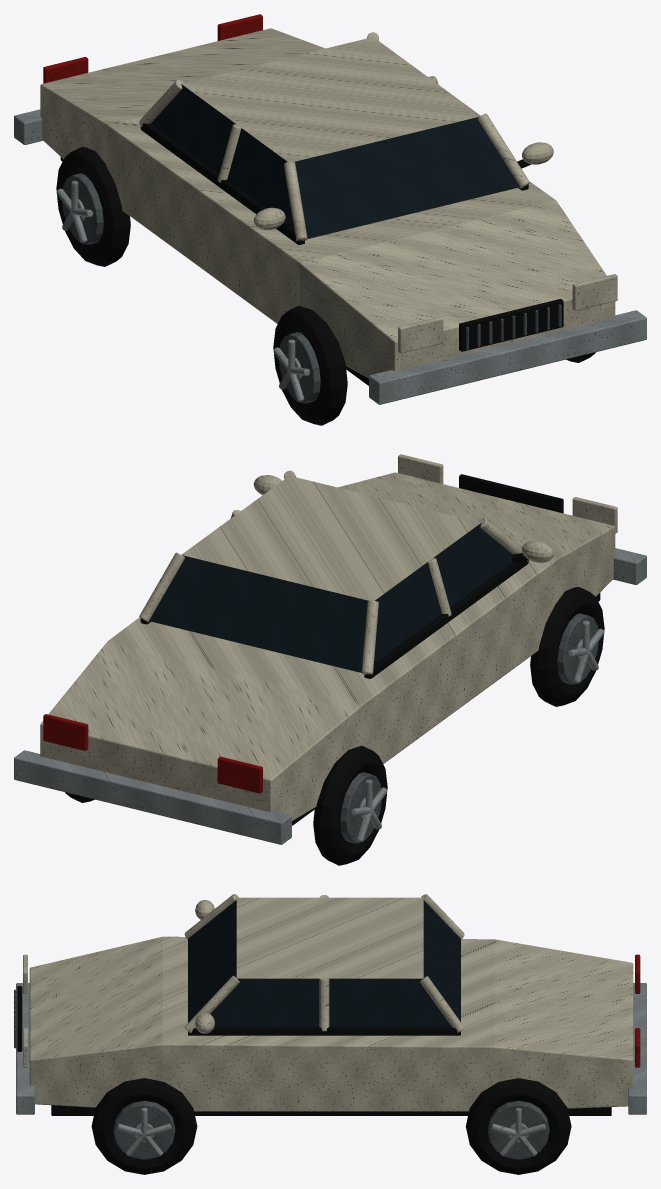
The model's file is PROP-1FC5D951DC33_lod0.glb.
3 views of the same model, one above another, from view 1: azimuth 30°, elevation 25°; view 2: azimuth 150°, elevation 25°; view 3: azimuth 270°, elevation 25° (orthographic). The views are drawn at different scales.
Visible parts, largest first — view 1: shaped_body_panels.005, sloped_cabin_glazing.005, roof_panel.005, bumper.005, tire.005, window_pillars.005, rim.005, radiator_grille.005, lamp_lenses.010, window_belt.005, rim_spokes.005, lamp_lenses.011 (+2 smaller); view 2: shaped_body_panels.005, sloped_cabin_glazing.005, roof_panel.005, bumper.005, tire.005, rim.005, window_pillars.005, lamp_lenses.011, window_belt.005, lamp_lenses.010, rim_spokes.005, radiator_grille.005 (+1 smaller); view 3: shaped_body_panels.005, sloped_cabin_glazing.005, roof_panel.005, tire.005, rim.005, bumper.005, window_pillars.005, window_belt.005, chassis.005, rim_spokes.005, mirror.005, lamp_lenses.011.
Part boxes in pixels (bbox=[...]): shaped_body_panels.005: bbox=[40, 28, 615, 378]; sloped_cabin_glazing.005: bbox=[150, 84, 519, 238]; roof_panel.005: bbox=[181, 37, 480, 161]; bumper.005: bbox=[14, 109, 646, 404]; tire.005: bbox=[56, 147, 595, 425]; window_pillars.005: bbox=[139, 32, 529, 240]; rim.005: bbox=[62, 173, 320, 403]; radiator_grille.005: bbox=[459, 299, 563, 351]; lamp_lenses.010: bbox=[398, 274, 617, 353]; window_belt.005: bbox=[140, 123, 528, 244]; rim_spokes.005: bbox=[56, 180, 309, 401]; lamp_lenses.011: bbox=[43, 14, 262, 83]; shaped_body_panels.005: bbox=[40, 472, 615, 820]; sloped_cabin_glazing.005: bbox=[149, 523, 512, 672]; roof_panel.005: bbox=[181, 475, 481, 600]; bumper.005: bbox=[14, 548, 646, 844]; tire.005: bbox=[65, 587, 604, 865]; rim.005: bbox=[340, 613, 598, 843]; window_pillars.005: bbox=[139, 470, 528, 674]; lamp_lenses.011: bbox=[43, 714, 262, 793]; window_belt.005: bbox=[140, 560, 528, 678]; lamp_lenses.010: bbox=[398, 454, 617, 533]; rim_spokes.005: bbox=[351, 620, 604, 841]; radiator_grille.005: bbox=[459, 474, 563, 513]; shaped_body_panels.005: bbox=[29, 936, 633, 1111]; sloped_cabin_glazing.005: bbox=[188, 899, 460, 1026]; roof_panel.005: bbox=[236, 897, 423, 978]; tire.005: bbox=[91, 1078, 571, 1174]; rim.005: bbox=[113, 1100, 549, 1159]; bumper.005: bbox=[16, 983, 646, 1114]; window_pillars.005: bbox=[184, 894, 464, 1033]; window_belt.005: bbox=[188, 1026, 460, 1035]; chassis.005: bbox=[51, 1105, 611, 1115]; rim_spokes.005: bbox=[117, 1107, 545, 1156]; mirror.005: bbox=[195, 900, 214, 1033]; lamp_lenses.011: bbox=[635, 954, 640, 1067].
Size of the model in its own units: 2.09 by 1.42 by 4.41.
7 materials, 7 textured.
